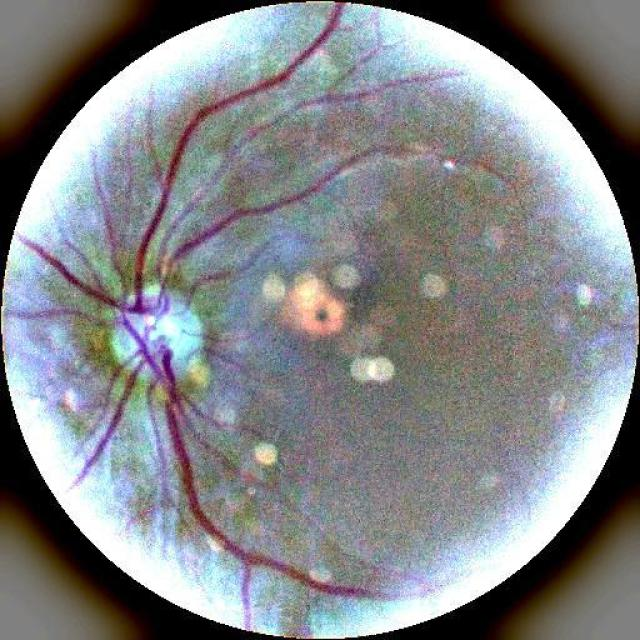Macula: (292, 276, 352, 343)
Nerves: (16, 1, 391, 629), (4, 304, 94, 320), (189, 269, 230, 294)
Optic Disk: (111, 294, 203, 388)
